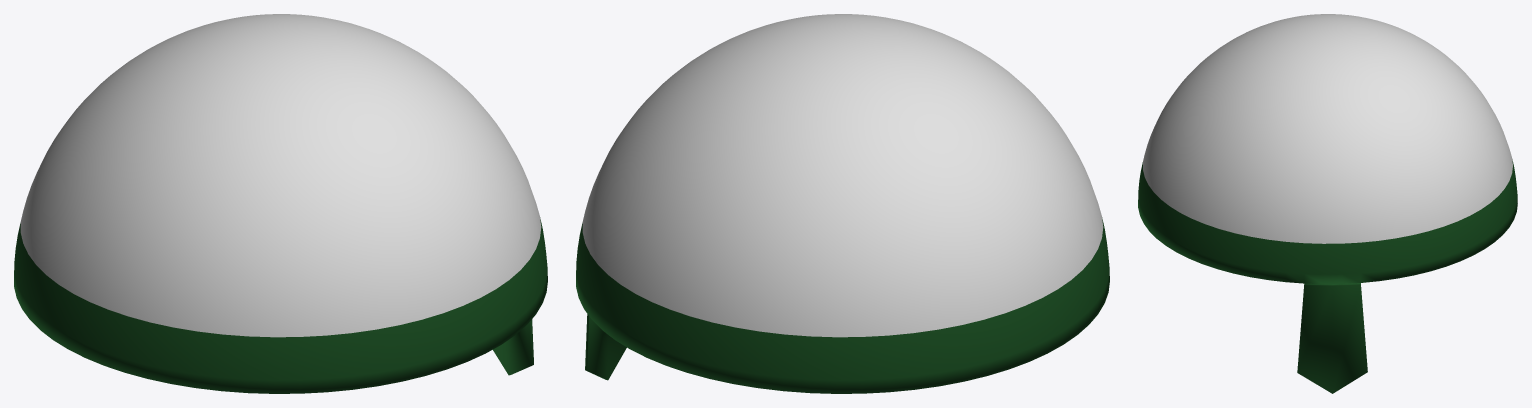
The model's file is NoviceHelmet.fbx.
The picture shows the model from 3 angles, left to right: view 1: azimuth 30°, elevation 25°; view 2: azimuth 150°, elevation 25°; view 3: azimuth 270°, elevation 25°; orthographic projection. The views are drawn at different scales.
Parts seen in each view (by area): view 1: Sphere; view 2: Sphere; view 3: Sphere.
Part boxes in pixels (<box>): Sphere: <box>14,14,547,393</box>; Sphere: <box>576,14,1109,393</box>; Sphere: <box>1138,14,1517,393</box>.
Size of the model in its own units: 88.94 by 72.3 by 88.47.
